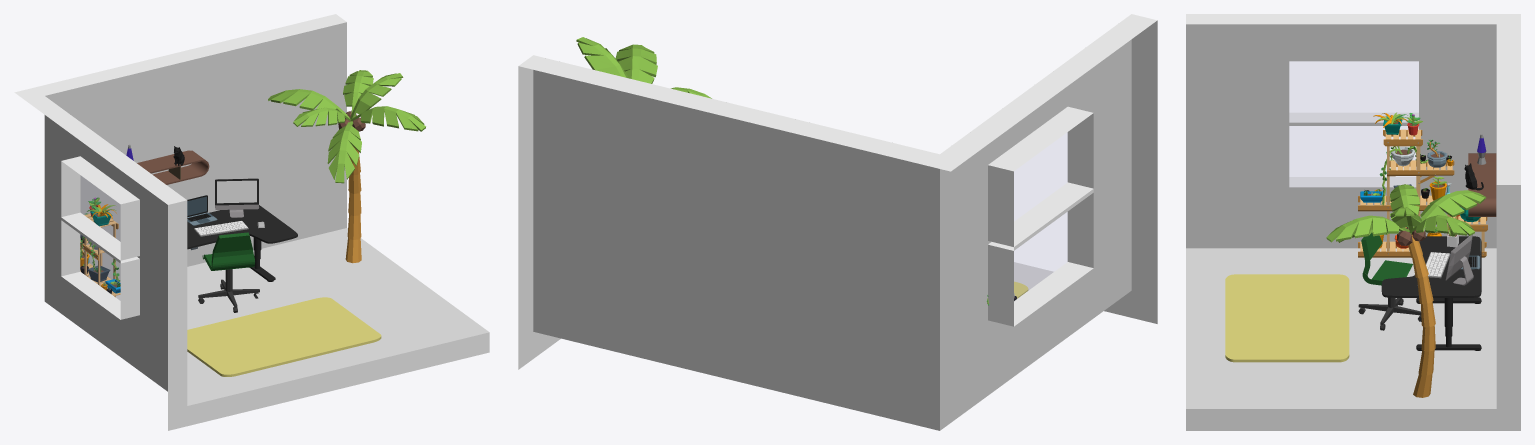
The model's file is newRoom.glb.
3 views of the same model, side by side, from view 1: azimuth 30°, elevation 25°; view 2: azimuth 150°, elevation 25°; view 3: azimuth 270°, elevation 25° (orthographic). The views are drawn at different scales.
Visible parts, largest first — view 1: Plane, WawaRug, palm_tree_01, Desk, Chair, Houseplant_7, iMac, SM_Shelf:SM_Shelf1, Laptop, keyboard; view 2: Plane, palm_tree_01; view 3: Plane, WawaRug, palm_tree_01, Houseplant_7, Desk, Chair, SM_Shelf:SM_Shelf1, iMac, keyboard.
Boxes of the visible parts, x1,y1,x2,y2 form: Plane: [14, 14, 489, 430]; WawaRug: [187, 297, 381, 376]; palm_tree_01: [268, 70, 425, 263]; Desk: [187, 205, 297, 281]; Chair: [198, 232, 259, 312]; Houseplant_7: [80, 197, 120, 297]; iMac: [215, 178, 259, 217]; SM_Shelf:SM_Shelf1: [137, 150, 209, 184]; Laptop: [187, 195, 217, 225]; keyboard: [194, 221, 248, 236]; Plane: [518, 14, 1157, 430]; palm_tree_01: [576, 37, 711, 98]; Plane: [1186, 14, 1520, 430]; WawaRug: [1225, 274, 1349, 362]; palm_tree_01: [1326, 184, 1486, 397]; Houseplant_7: [1358, 112, 1487, 257]; Desk: [1381, 236, 1481, 350]; Chair: [1358, 232, 1421, 330]; SM_Shelf:SM_Shelf1: [1468, 153, 1496, 216]; iMac: [1445, 234, 1473, 285]; keyboard: [1426, 252, 1450, 278].
Size of the model in its own units: 5.92 by 3.84 by 4.74.
